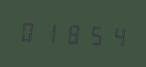eight: (62, 19, 83, 47)
five: (84, 20, 105, 48)
four: (106, 21, 127, 49)
one: (40, 18, 61, 46)
zero: (18, 17, 39, 45)
